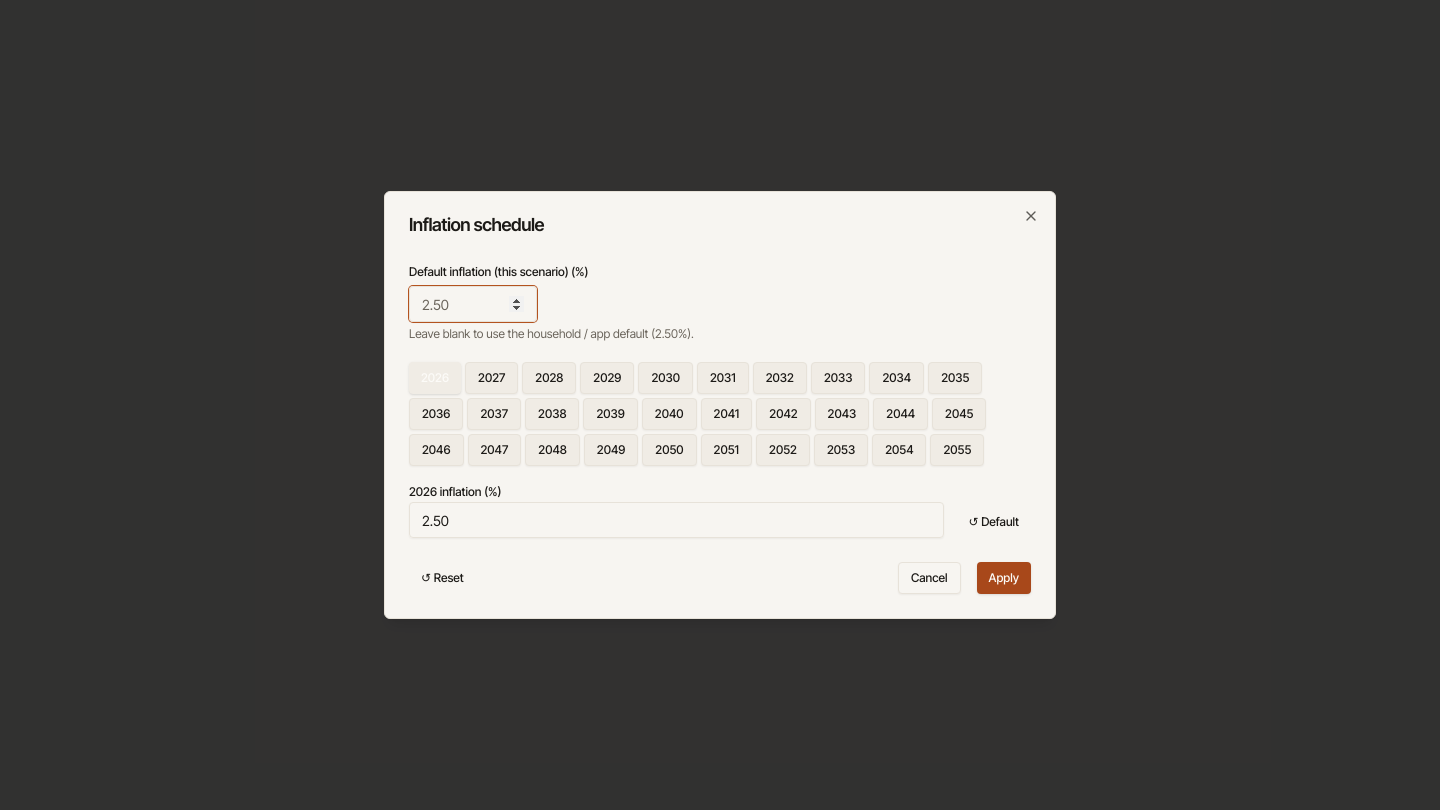
Test: InflationPopover › clicking a year cell selects it and the year-input edits that year
The width and height of the screenshot is (1440, 810).
Click the button "2028": (549, 378) [522, 362, 576, 394]
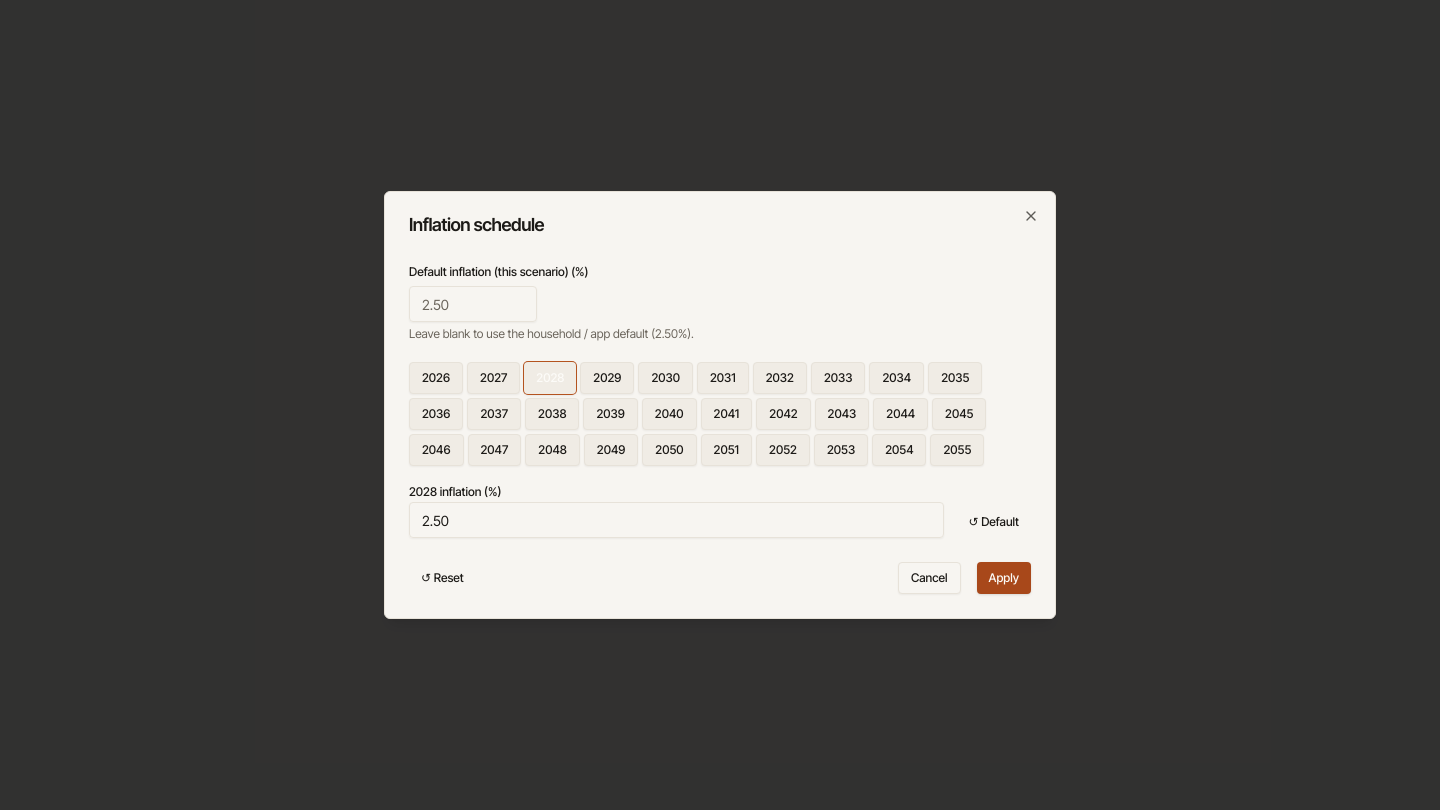
Replace the text in the number field named "selected year inflation" with "10": (677, 520) [409, 502, 944, 538]
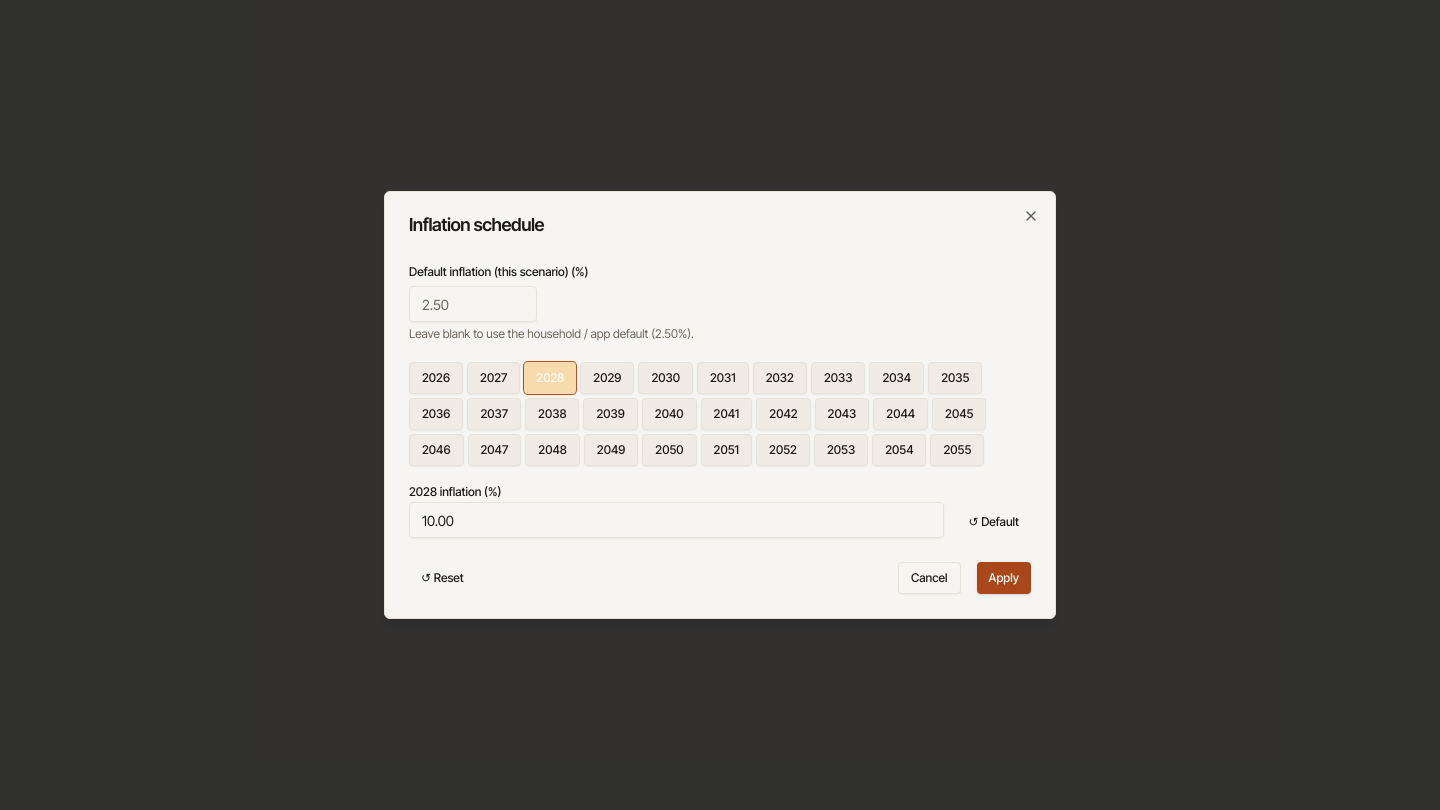
Now the number field named "selected year inflation" holds "10.00", box [409, 502, 944, 538]
